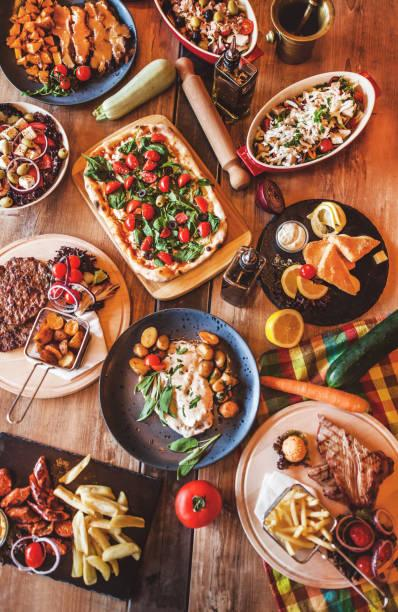Braised Crucian Carp: (73, 114, 251, 291), (233, 401, 394, 583), (0, 429, 164, 600), (99, 309, 258, 467), (1, 234, 132, 389), (250, 199, 386, 323), (1, 0, 137, 105), (244, 70, 376, 172)
